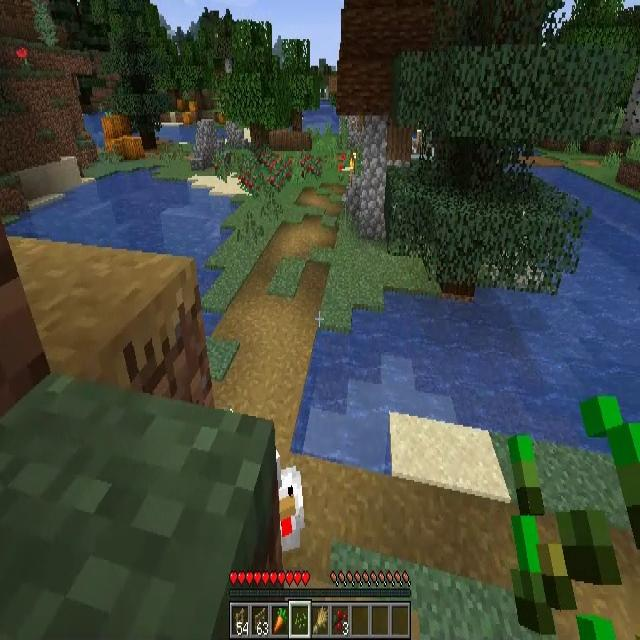duck: (276, 466, 305, 550)
